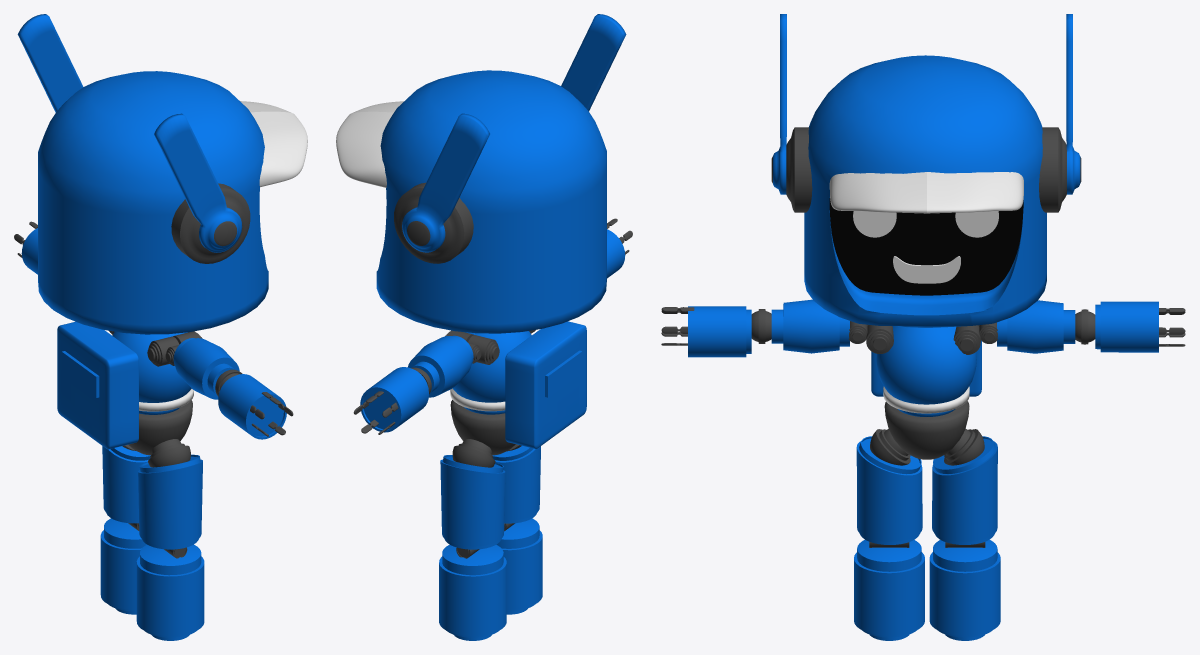
The model's file is RobotFixedwithFace.fbx.
3 renders of one model, left to right at view 1: azimuth 30°, elevation 25°; view 2: azimuth 150°, elevation 25°; view 3: azimuth 270°, elevation 25°, orthographic. The views are drawn at different scales.
Parts seen in each view (by area): view 1: башка син, ранец, прав голень, прав бедро, ухо1 син, козырек бел, лев голень, ухо2 син, ухо1 черн, прав кисть, лев бедро, грудь (+7 smaller); view 2: башка син, ранец, лев голень, лев бедро, ухо2 син, козырек бел, прав голень, ухо1 син, ухо2 черн, лев кисть, прав бедро, лев бицепс (+7 smaller); view 3: башка син, экран черн, козырек бел, лев голень, прав голень, грудь, прав бедро, лев бедро, прав бицепс, лев бицепс, лев кисть, прав кисть (+12 smaller).
Part boxes in pixels (box(x1,y1,x2,y2)): башка син: box(38, 71, 268, 334); ранец: box(57, 321, 138, 449); прав голень: box(136, 544, 204, 640); прав бедро: box(138, 454, 202, 549); ухо1 син: box(154, 113, 242, 252); козырек бел: box(240, 101, 307, 187); лев голень: box(100, 518, 146, 614); ухо2 син: box(17, 14, 83, 112); ухо1 черн: box(171, 183, 250, 263); прав кисть: box(218, 374, 286, 439); лев бедро: box(102, 446, 150, 523); грудь: box(112, 331, 191, 402); башка син: box(376, 70, 606, 333); ранец: box(505, 321, 586, 448); лев голень: box(439, 544, 506, 640); лев бедро: box(440, 455, 505, 549); ухо2 син: box(402, 113, 489, 252); козырек бел: box(336, 101, 403, 187); прав голень: box(496, 518, 542, 614); ухо1 син: box(561, 14, 626, 111); ухо2 черн: box(394, 182, 473, 263); лев кисть: box(360, 367, 428, 432); прав бедро: box(492, 446, 540, 523); лев бицепс: box(408, 335, 473, 397); башка син: box(804, 55, 1046, 327); экран черн: box(829, 198, 1023, 295); козырек бел: box(829, 172, 1023, 213); лев голень: box(929, 539, 1000, 640); прав голень: box(854, 540, 924, 640); грудь: box(876, 326, 976, 404); прав бедро: box(856, 436, 922, 544); лев бедро: box(932, 436, 997, 544); прав бицепс: box(771, 299, 849, 353); лев бицепс: box(997, 300, 1075, 353); лев кисть: box(1095, 301, 1158, 352); прав кисть: box(688, 306, 751, 357).
Bounding box in the file's own units: 452 × 1007 × 807.
